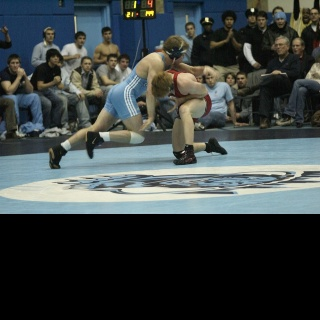without_mask: (275, 38, 287, 57), (8, 56, 21, 73), (43, 27, 55, 43), (291, 39, 302, 54), (81, 57, 91, 72), (119, 55, 129, 70), (184, 23, 194, 38), (255, 15, 267, 27), (75, 34, 86, 47), (49, 51, 59, 65), (102, 28, 112, 42), (309, 9, 320, 21), (108, 56, 117, 69), (224, 16, 234, 27), (247, 14, 256, 23)
